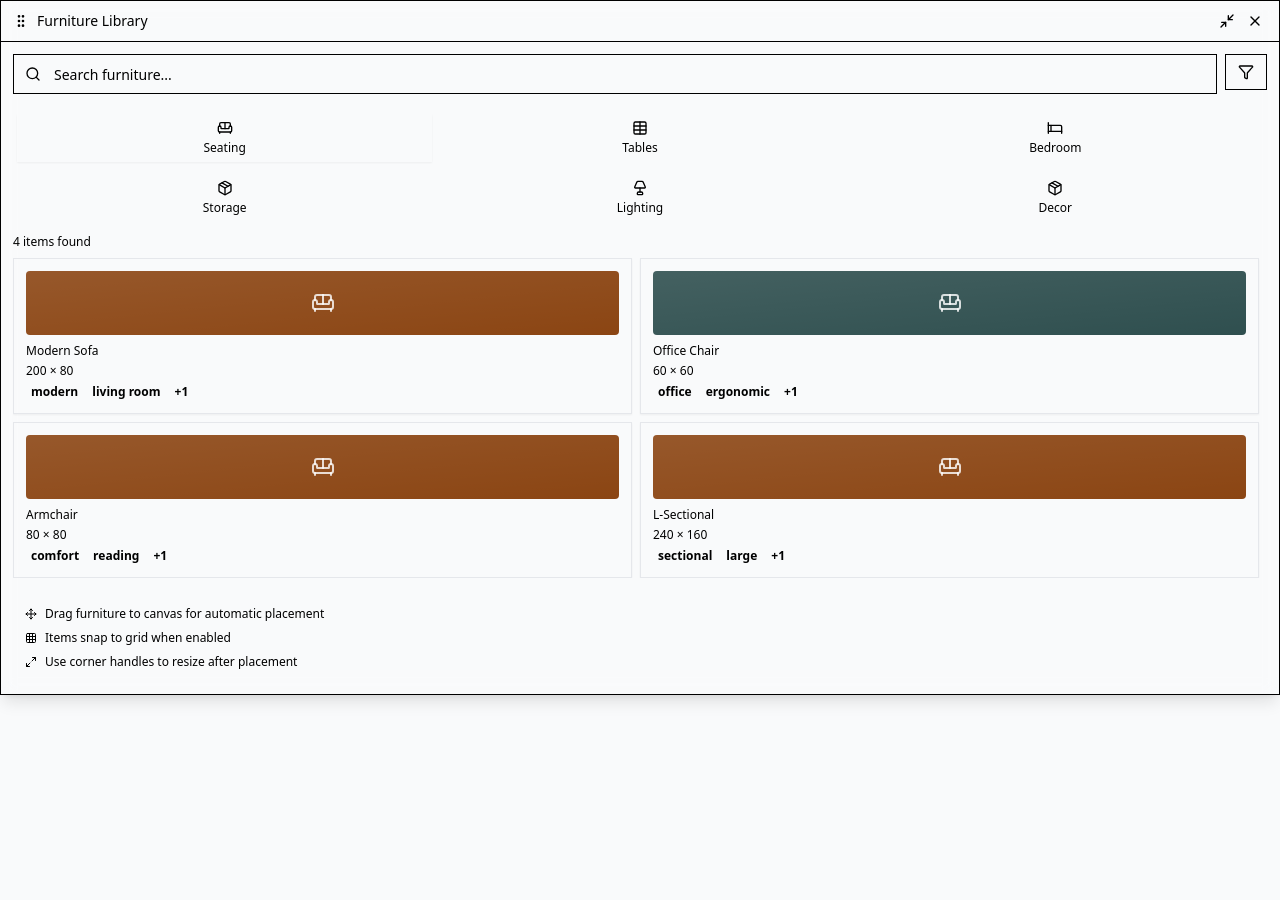
Scenario: FurnitureLibraryPanel › filters furniture items by search query
The image size is (1280, 900).
Step 1. Type "sofa" into the field with placeholder "Search furniture..." → [615, 74], box [13,54,1217,94]
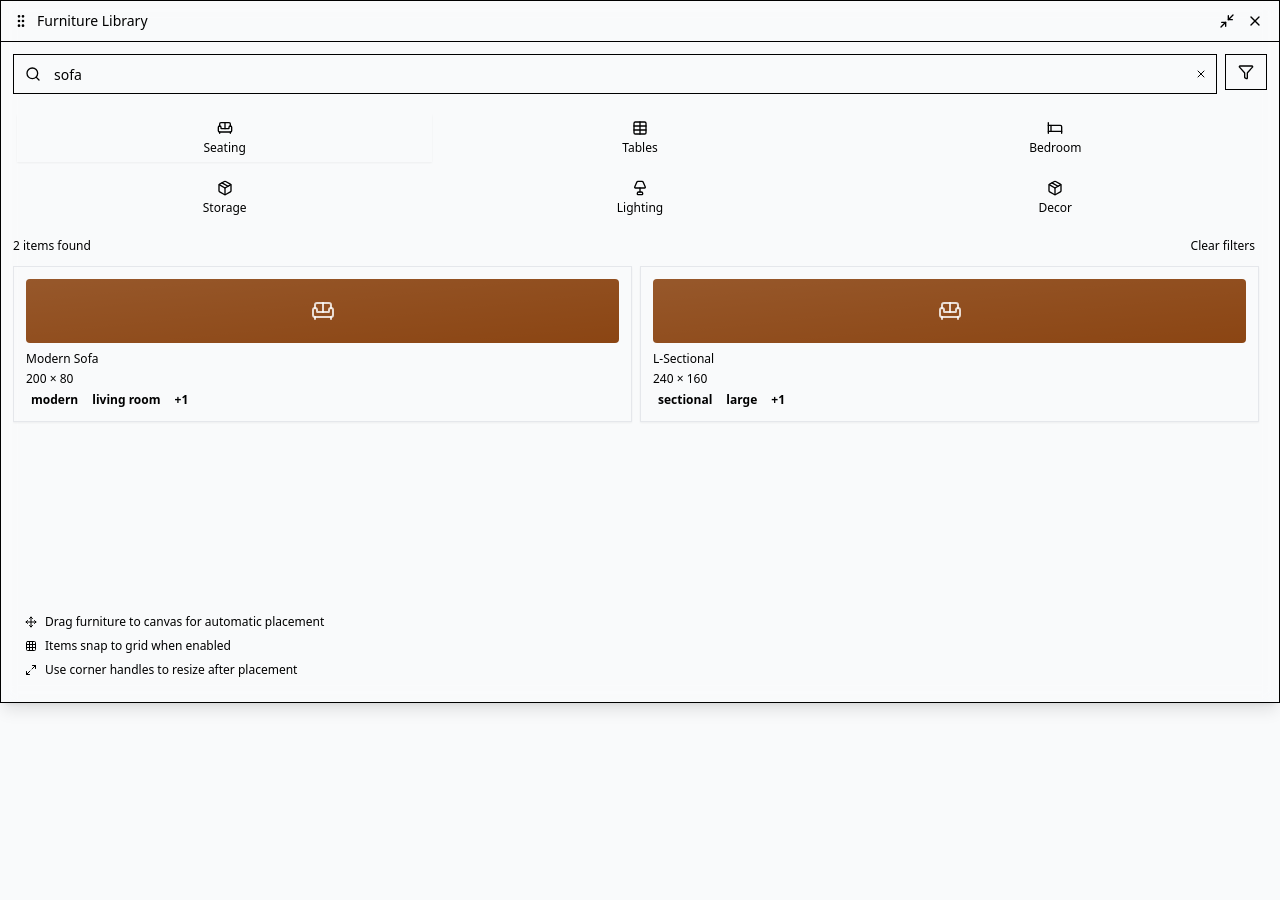
expect the text "Modern Sofa" is shown: met, box [26,350,98,367]
expect the text "Office Chair" is gone: met
